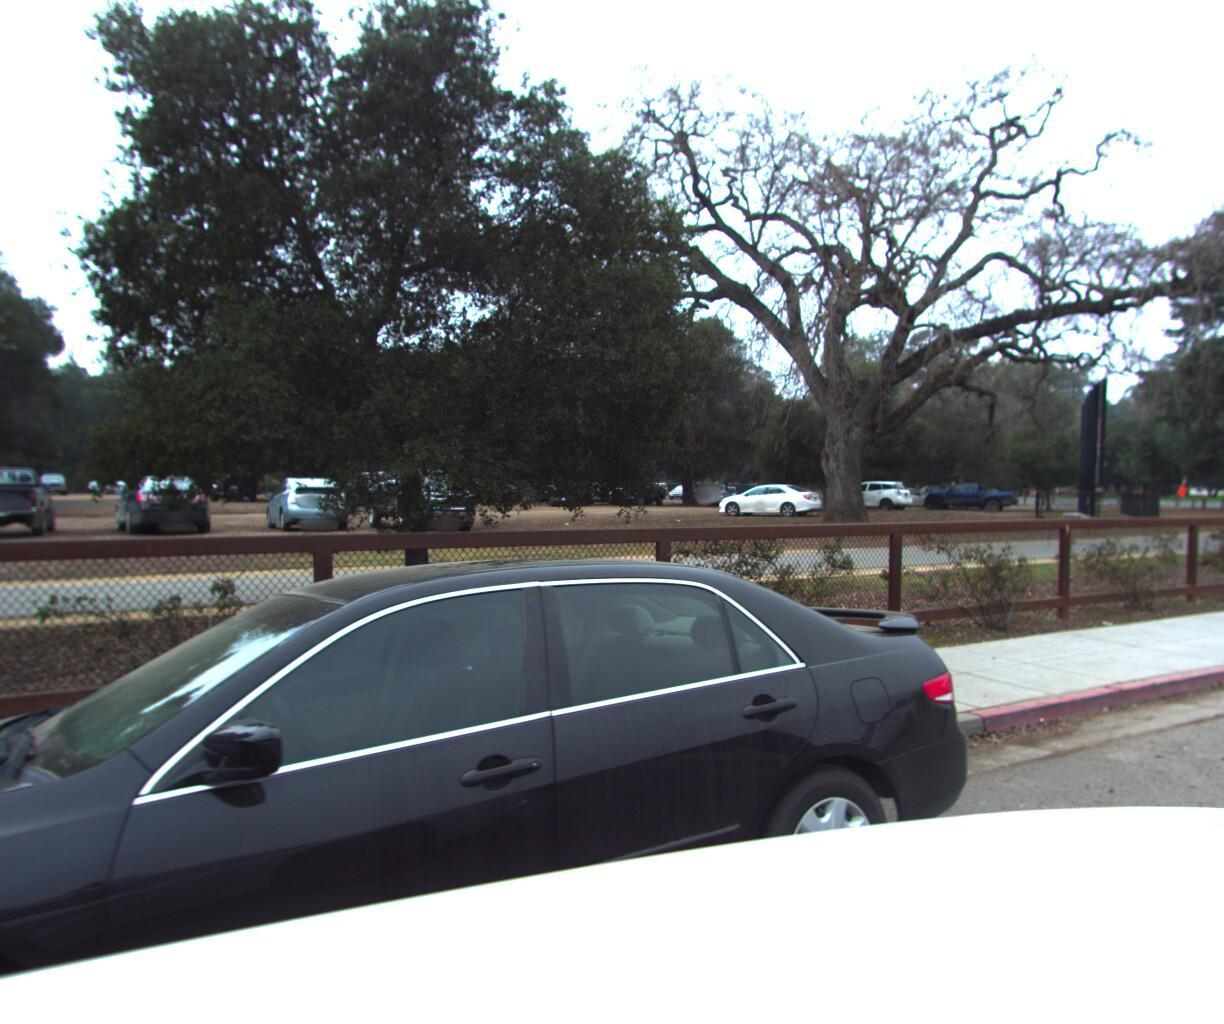car: (0, 529, 1060, 1024)
